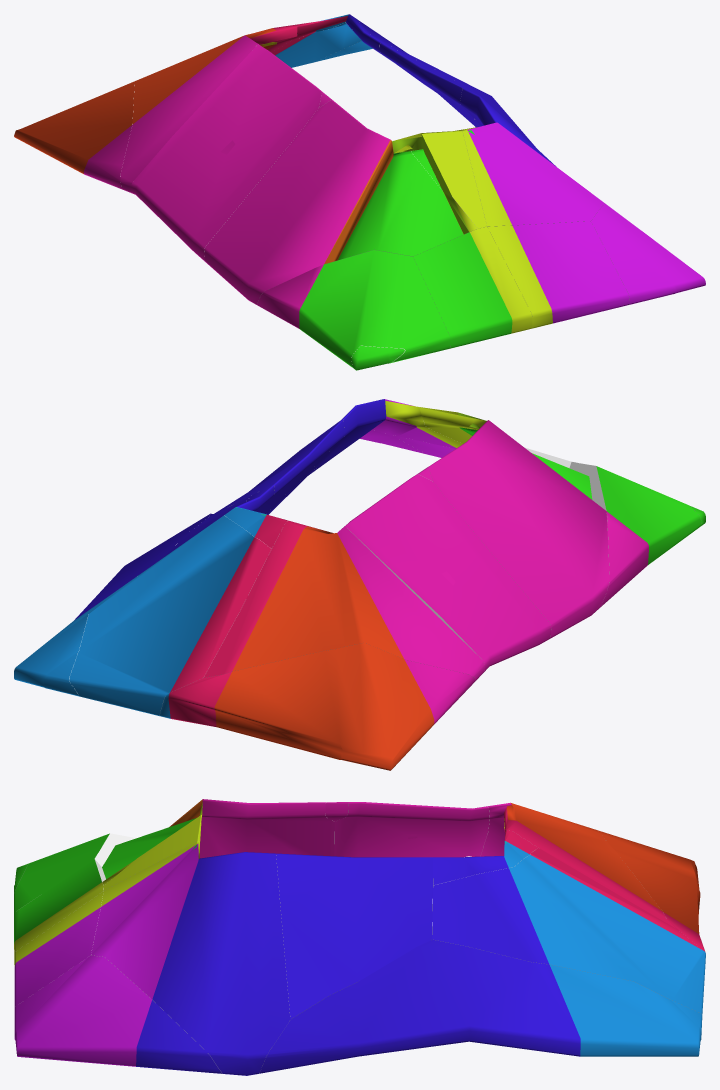
File: Structure_Tower_Knight_Human_02_Destroyed_debris_cells_main_structure_rooftop_01.fbx
3 views of the same model, one above another, from view 1: azimuth 30°, elevation 25°; view 2: azimuth 150°, elevation 25°; view 3: azimuth 270°, elevation 25° (orthographic). The views are drawn at different scales.
Parts seen in each view (by area): view 1: Structure_Tower_Knight_Human_02.002_cell.010, Structure_Tower_Knight_Human_02.002_cell.002, Structure_Tower_Knight_Human_02.002_cell.008, Structure_Tower_Knight_Human_02.002_cell.004, Structure_Tower_Knight_Human_02.002_cell.014, Structure_Tower_Knight_Human_02.002_cell.006, Structure_Tower_Knight_Human_02.002_cell.009, Structure_Tower_Knight_Human_02.002_cell.013, Structure_Tower_Knight_Human_02.002_cell.007, Structure_Tower_Knight_Human_02.002_cell.003, Structure_Tower_Knight_Human_02.002_cell.001, Structure_Tower_Knight_Human_02.002_cell.012 (+3 smaller); view 2: Structure_Tower_Knight_Human_02.002_cell.013, Structure_Tower_Knight_Human_02.002_cell.009, Structure_Tower_Knight_Human_02.002_cell.001, Structure_Tower_Knight_Human_02.002_cell.010, Structure_Tower_Knight_Human_02.002_cell.002, Structure_Tower_Knight_Human_02.002_cell.008, Structure_Tower_Knight_Human_02.002_cell.005, Structure_Tower_Knight_Human_02.002_cell.004, Structure_Tower_Knight_Human_02.002_cell.012, Structure_Tower_Knight_Human_02.002_cell.011, Structure_Tower_Knight_Human_02.002_cell.003; view 3: Structure_Tower_Knight_Human_02.002_cell.005, Structure_Tower_Knight_Human_02.002_cell.004, Structure_Tower_Knight_Human_02.002_cell.001, Structure_Tower_Knight_Human_02.002_cell.012, Structure_Tower_Knight_Human_02.002_cell.007, Structure_Tower_Knight_Human_02.002_cell.010, Structure_Tower_Knight_Human_02.002_cell.002, Structure_Tower_Knight_Human_02.002_cell.009, Structure_Tower_Knight_Human_02.002_cell.013, Structure_Tower_Knight_Human_02.002_cell.014, Structure_Tower_Knight_Human_02.002_cell.006, Structure_Tower_Knight_Human_02.002_cell.008 (+2 smaller).
Boxes of the visible parts, left/top/right/bottom form: Structure_Tower_Knight_Human_02.002_cell.010: left=204, top=100, right=477, bottom=304; Structure_Tower_Knight_Human_02.002_cell.002: left=130, top=44, right=322, bottom=261; Structure_Tower_Knight_Human_02.002_cell.008: left=257, top=250, right=450, bottom=367; Structure_Tower_Knight_Human_02.002_cell.004: left=460, top=88, right=604, bottom=226; Structure_Tower_Knight_Human_02.002_cell.014: left=487, top=221, right=629, bottom=328; Structure_Tower_Knight_Human_02.002_cell.006: left=413, top=226, right=532, bottom=348; Structure_Tower_Knight_Human_02.002_cell.009: left=120, top=25, right=297, bottom=192; Structure_Tower_Knight_Human_02.002_cell.013: left=14, top=81, right=134, bottom=189; Structure_Tower_Knight_Human_02.002_cell.007: left=591, top=203, right=705, bottom=304; Structure_Tower_Knight_Human_02.002_cell.003: left=394, top=130, right=486, bottom=228; Structure_Tower_Knight_Human_02.002_cell.001: left=271, top=18, right=443, bottom=73; Structure_Tower_Knight_Human_02.002_cell.012: left=380, top=42, right=480, bottom=127; Structure_Tower_Knight_Human_02.002_cell.013: left=159, top=642, right=475, bottom=770; Structure_Tower_Knight_Human_02.002_cell.009: left=204, top=520, right=484, bottom=680; Structure_Tower_Knight_Human_02.002_cell.001: left=69, top=496, right=271, bottom=715; Structure_Tower_Knight_Human_02.002_cell.010: left=428, top=412, right=609, bottom=638; Structure_Tower_Knight_Human_02.002_cell.002: left=345, top=474, right=551, bottom=671; Structure_Tower_Knight_Human_02.002_cell.008: left=596, top=466, right=701, bottom=606; Structure_Tower_Knight_Human_02.002_cell.005: left=14, top=514, right=209, bottom=696; Structure_Tower_Knight_Human_02.002_cell.004: left=266, top=399, right=462, bottom=514; Structure_Tower_Knight_Human_02.002_cell.012: left=209, top=419, right=344, bottom=516; Structure_Tower_Knight_Human_02.002_cell.011: left=224, top=484, right=287, bottom=548; Structure_Tower_Knight_Human_02.002_cell.003: left=419, top=407, right=486, bottom=443; Structure_Tower_Knight_Human_02.002_cell.005: left=259, top=939, right=702, bottom=1073; Structure_Tower_Knight_Human_02.002_cell.004: left=91, top=840, right=290, bottom=1075; Structure_Tower_Knight_Human_02.002_cell.001: left=432, top=848, right=705, bottom=1014; Structure_Tower_Knight_Human_02.002_cell.012: left=276, top=853, right=432, bottom=1019; Structure_Tower_Knight_Human_02.002_cell.007: left=14, top=955, right=221, bottom=1073; Structure_Tower_Knight_Human_02.002_cell.010: left=95, top=799, right=334, bottom=885; Structure_Tower_Knight_Human_02.002_cell.002: left=334, top=802, right=489, bottom=857; Structure_Tower_Knight_Human_02.002_cell.009: left=480, top=802, right=676, bottom=928; Structure_Tower_Knight_Human_02.002_cell.013: left=598, top=830, right=705, bottom=957; Structure_Tower_Knight_Human_02.002_cell.014: left=14, top=891, right=103, bottom=1009; Structure_Tower_Knight_Human_02.002_cell.006: left=14, top=859, right=103, bottom=955; Structure_Tower_Knight_Human_02.002_cell.008: left=14, top=833, right=109, bottom=914.
Size of the model in its own units: 641 by 262 by 987.
